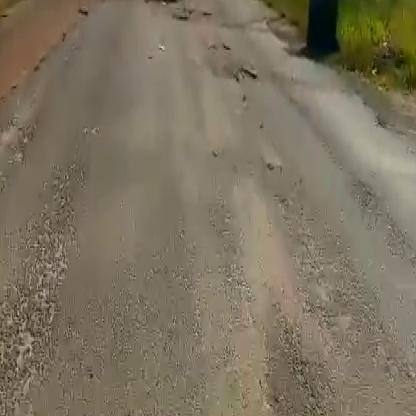pothole: (233, 65, 258, 86), (142, 0, 182, 5)
